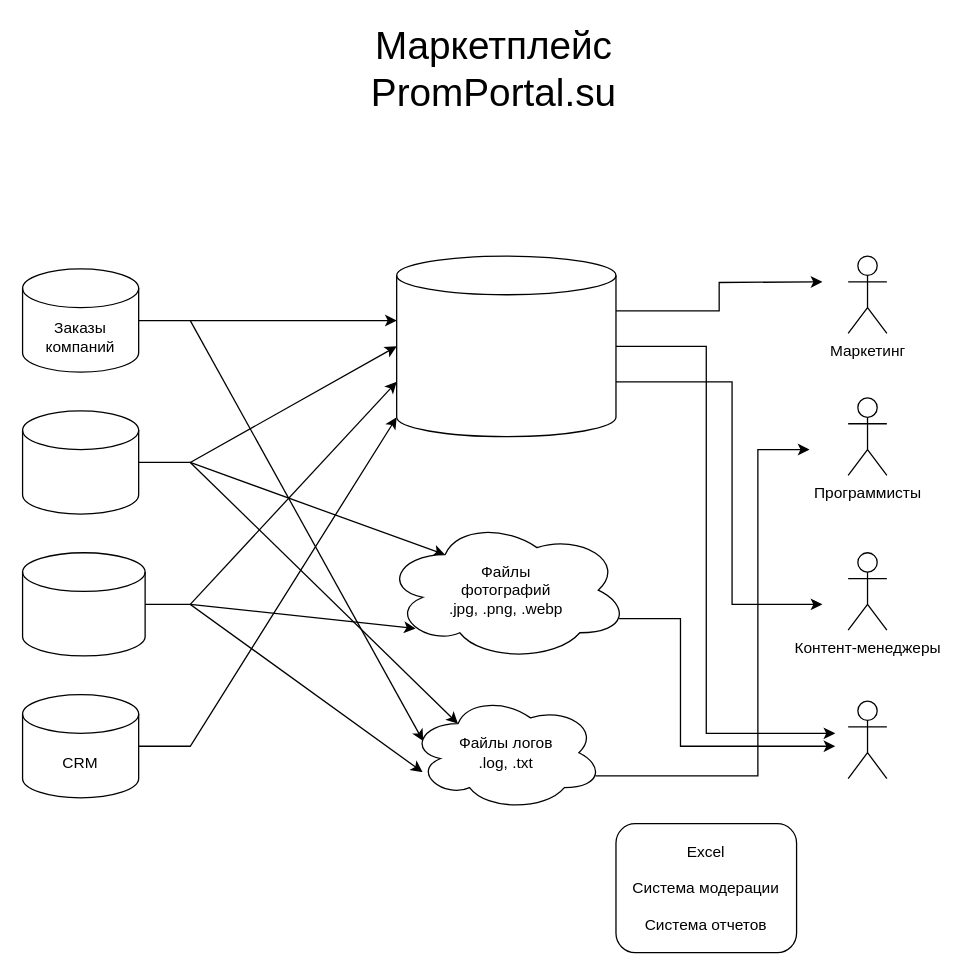
Image size: 962x975. Some labels were removed from this diagram. The shapes that lost their labels are listed below. From the top down, each one's centre as x and y in pixels, then its label:
At point (505, 346): "База данных MySQL".
At point (80, 462): "Кабинет компаний".
At point (83, 603): "Файлы импорта xml, xls, csv".
At point (867, 739): "Модераторы".
